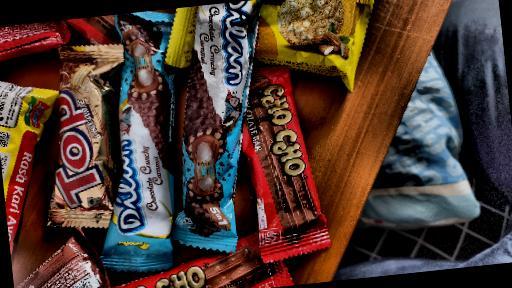chocho: (237, 64, 367, 263)
dilan: (159, 1, 261, 254), (102, 10, 190, 276)
top: (55, 28, 128, 259)
